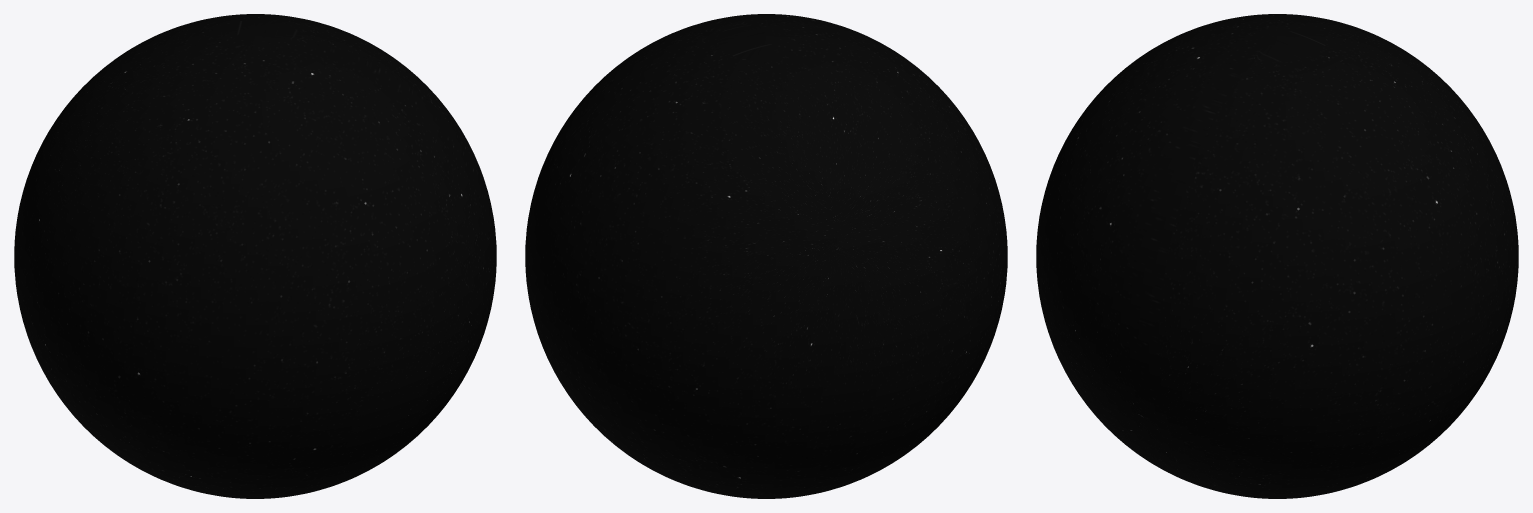
The model's file is Lowpoly_Stylized_House.fbx.
3 views of the same model, side by side, from view 1: azimuth 30°, elevation 25°; view 2: azimuth 150°, elevation 25°; view 3: azimuth 270°, elevation 25° (orthographic).
Parts seen in each view (by area): view 1: Sphere; view 2: Sphere; view 3: Sphere.
Boxes of the visible parts, <box> form: Sphere: <box>14,14,496,498</box>; Sphere: <box>525,14,1007,498</box>; Sphere: <box>1036,14,1518,498</box>.
Bounding box in the file's own units: 7265 × 7343 × 7265.
